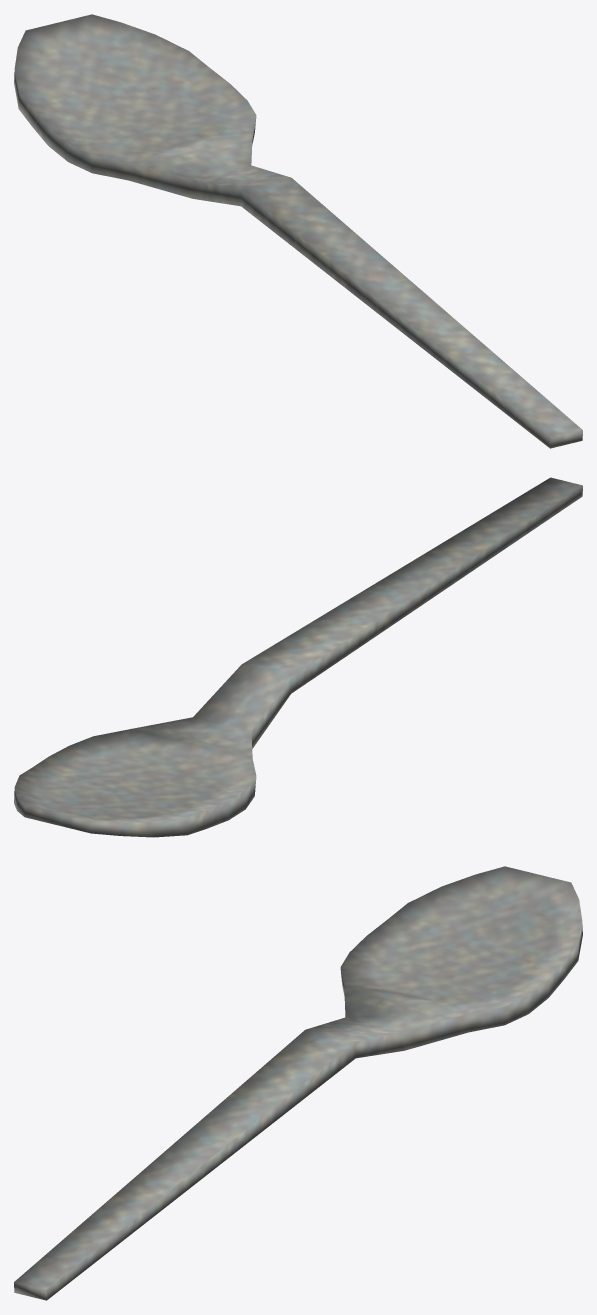
The model's file is spoon.glb.
3 renders of one model, top to bottom at view 1: azimuth 30°, elevation 25°; view 2: azimuth 150°, elevation 25°; view 3: azimuth 330°, elevation 25°, orthographic.
Parts seen in each view (by area): view 1: spoon; view 2: spoon; view 3: spoon.
Boxes of the visible parts, x1,y1,x2,y2 form: spoon: (14,14,582,448); spoon: (14,477,582,837); spoon: (14,866,582,1300).
Bounding box in the file's own units: 0.0471 × 0.0126 × 0.2288.
1 material, 1 textured.
